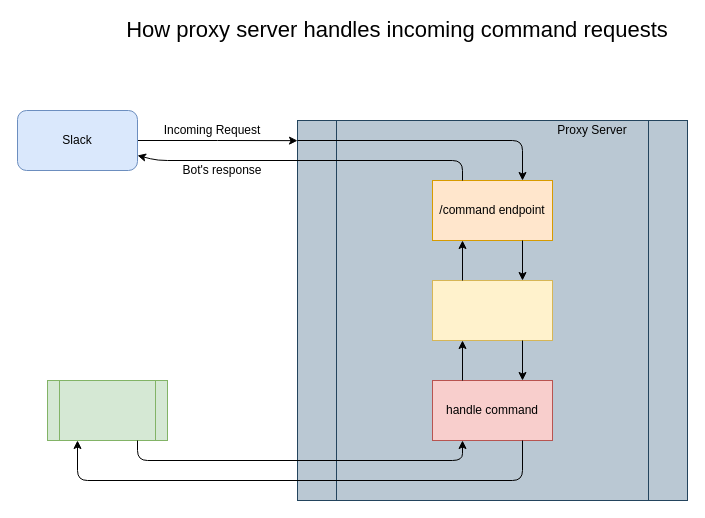
This 705x518 diagram has some shape labels left out. The box of each missing label's shape, as (x1, y1, x2, y2) in pixels:
Bot server endpoints: (46, 380, 168, 440)
dispatch command: (432, 280, 552, 340)
